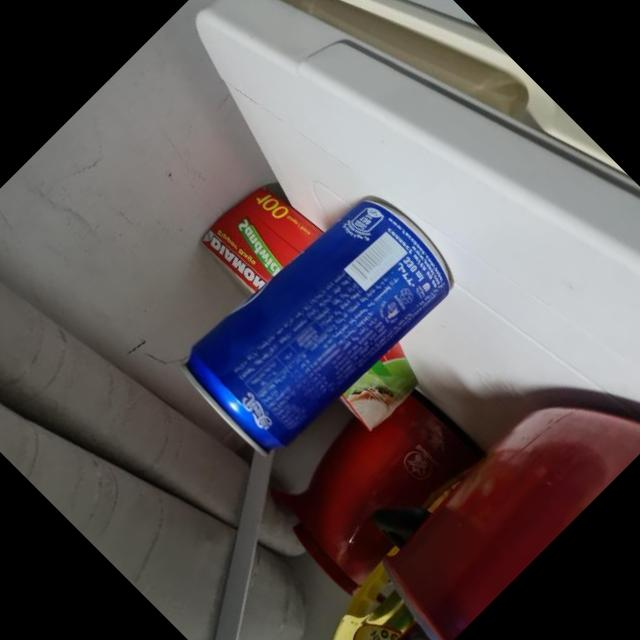Kaleng: (168, 173, 466, 471)
